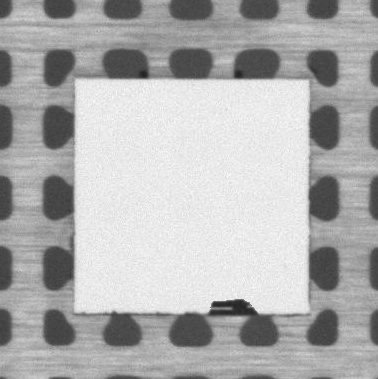DIE_BROKEN: (206, 298, 259, 317)
